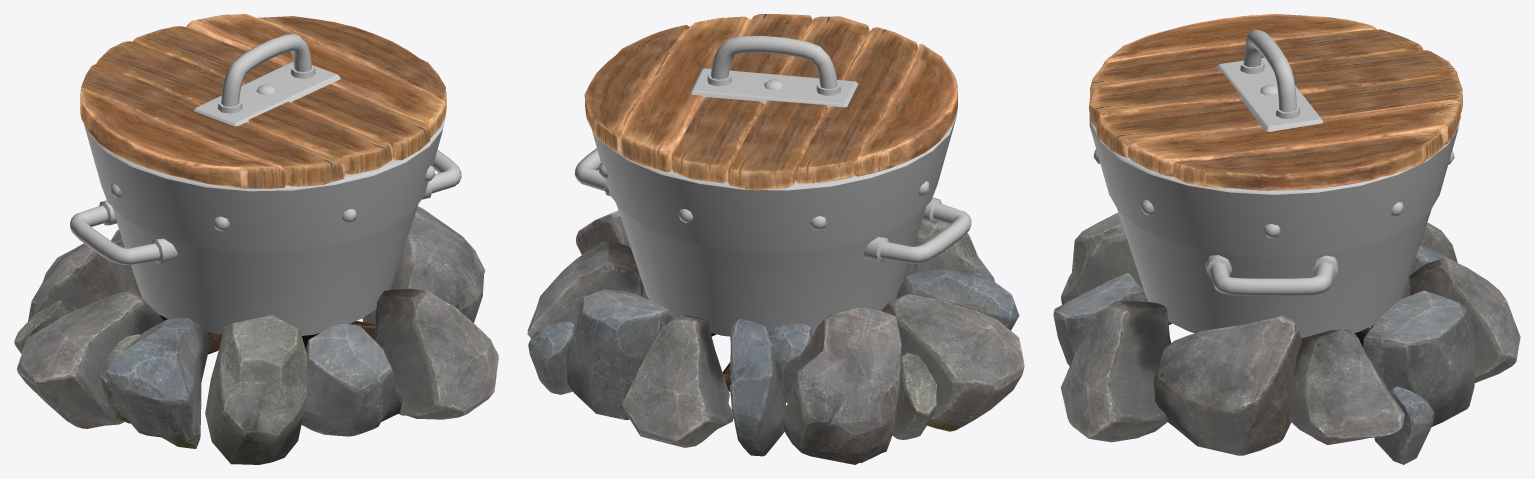
3 views of the same model, side by side, from view 1: azimuth 30°, elevation 25°; view 2: azimuth 150°, elevation 25°; view 3: azimuth 270°, elevation 25° (orthographic). The views are drawn at different scales.
Visible parts, largest first — view 1: SM_Magic_Cooking_Pot_Cooking_LOD0; view 2: SM_Magic_Cooking_Pot_Cooking_LOD0; view 3: SM_Magic_Cooking_Pot_Cooking_LOD0.
Part boxes in pixels (box(x1,y1,x2,y2)): SM_Magic_Cooking_Pot_Cooking_LOD0: box(14, 14, 498, 464); SM_Magic_Cooking_Pot_Cooking_LOD0: box(527, 14, 1024, 464); SM_Magic_Cooking_Pot_Cooking_LOD0: box(1053, 14, 1520, 464).
Bounding box in the file's own units: 0.7838 × 0.5816 × 0.7026.
